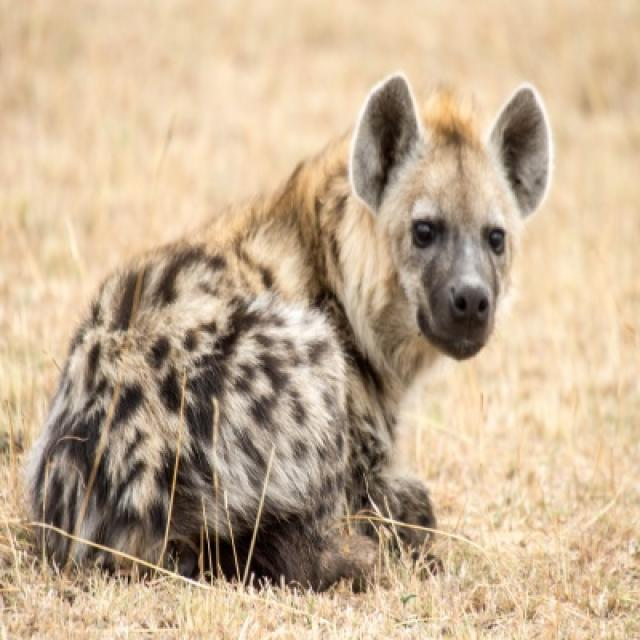hyena: (24, 72, 555, 594)
